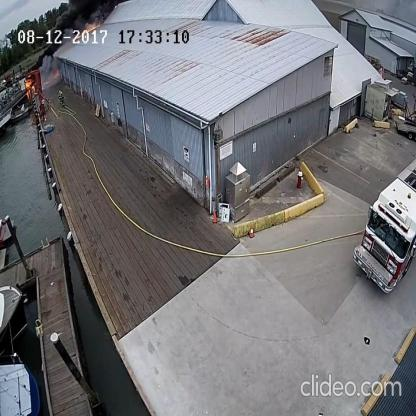fire: (22, 76, 37, 102), (81, 20, 101, 31), (54, 64, 61, 80)
